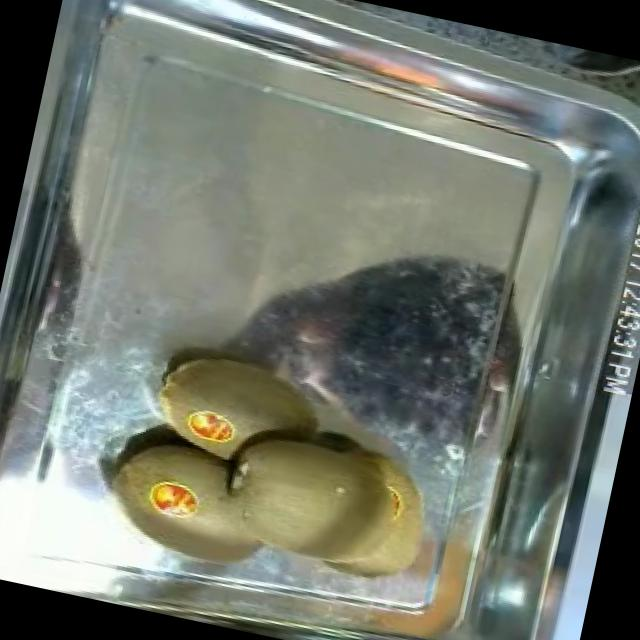Fruit: (196, 395, 462, 608), (134, 329, 340, 489)
